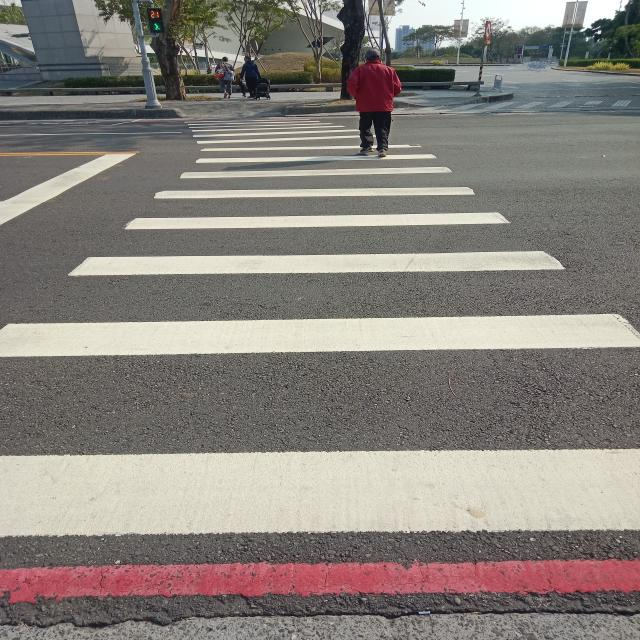person: (347, 49, 402, 156), (215, 56, 235, 99), (240, 56, 260, 98)
zebra crossing: (0, 117, 640, 536)
